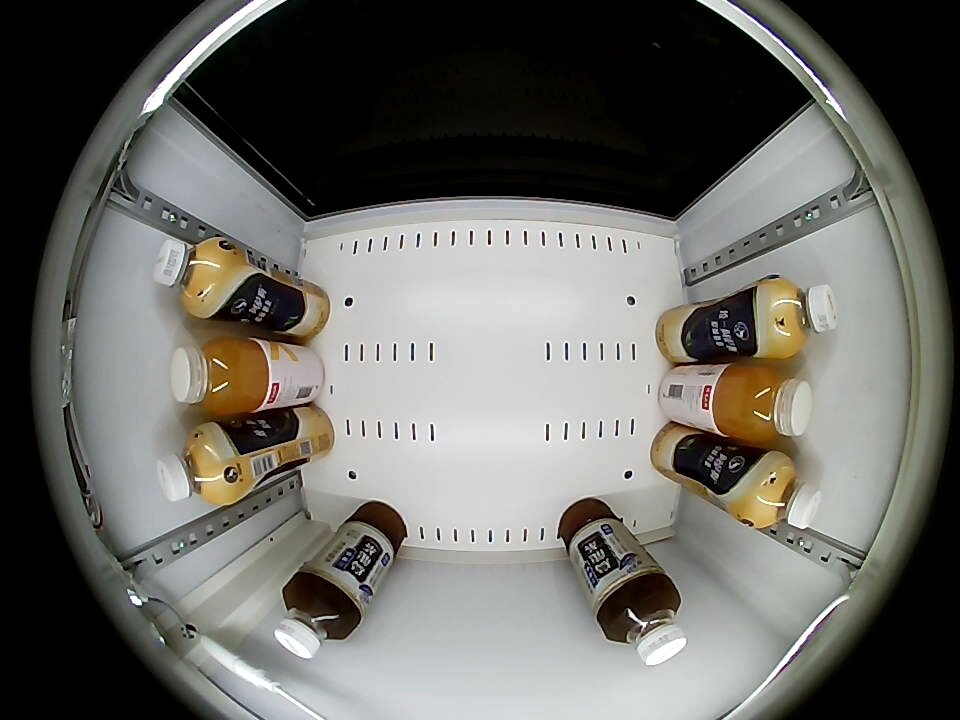asamu: (152, 237, 234, 315), (760, 277, 840, 356), (156, 425, 235, 504), (742, 455, 823, 531)
weic: (170, 336, 270, 415), (714, 364, 814, 443)
wulongcha: (599, 578, 687, 667), (274, 572, 360, 660)
